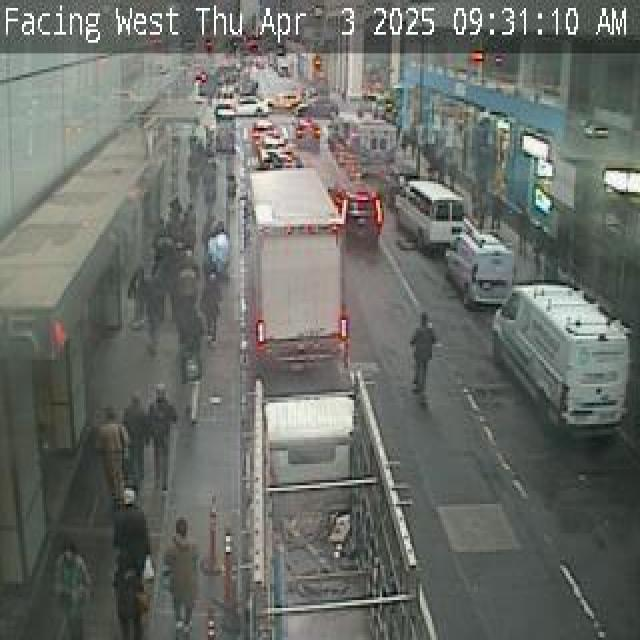open parking: (549, 420, 640, 608), (343, 149, 481, 251)
